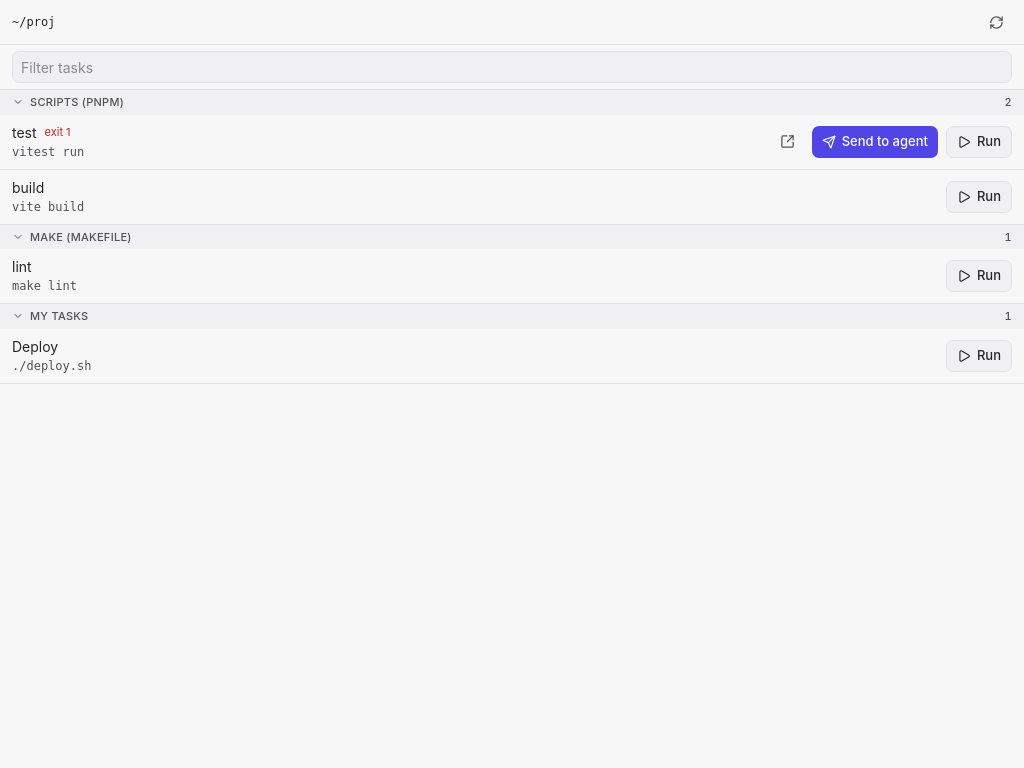
TasksView Send to agent › asks which agent when none is remembered, then sends and remembers it
Check: the element with test id "tasks-view" is shown, box [0,0,1023,384]
Click the button with aria-label "Send the output of test to an agent" at (875, 142), box [812,126,938,158]
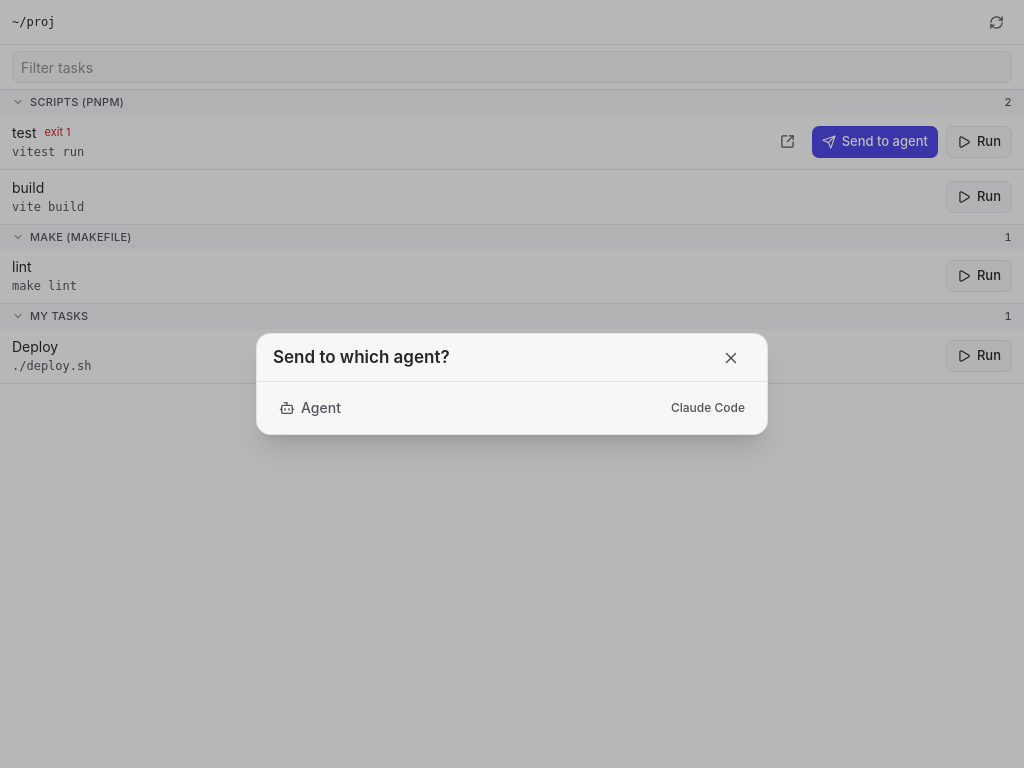
Check: the heading "Send to which agent?" is shown, box [273,345,450,370]
Click the button "Agent Claude Code" at (321, 408), box [265,390,759,426]
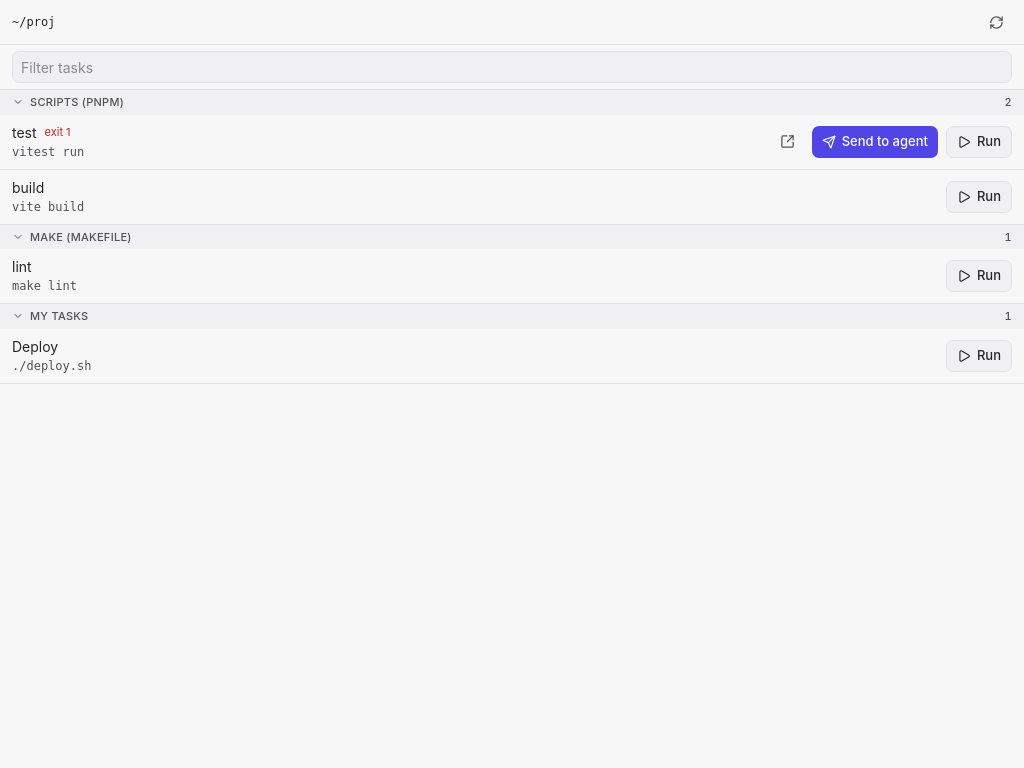
Check: the heading "Send to which agent?" is gone
